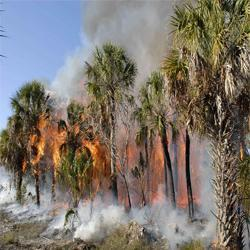fire: (28, 127, 61, 168), (91, 142, 105, 174)
